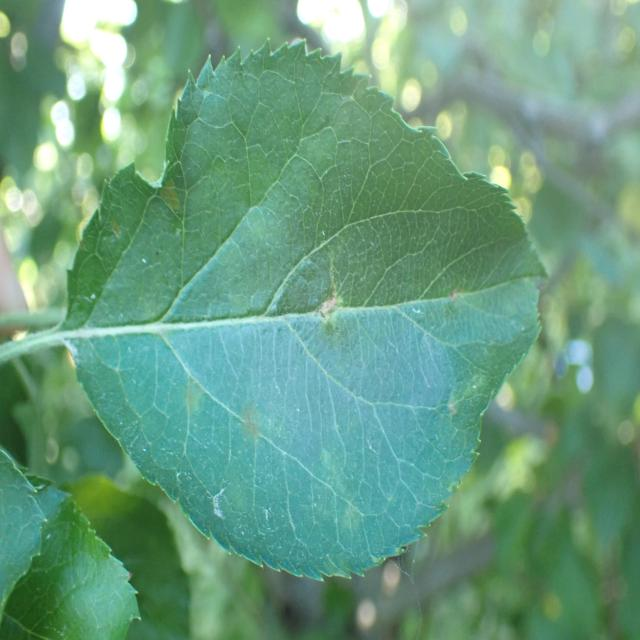scab: (93, 121, 482, 513)
